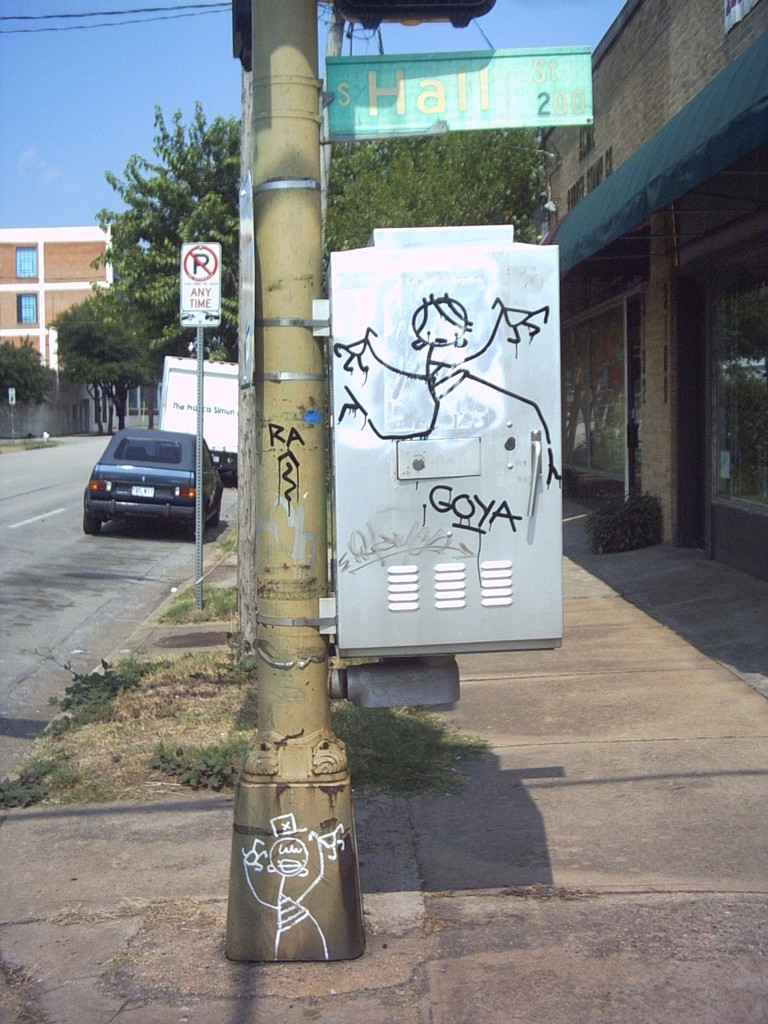Tree: (0, 98, 549, 430)
